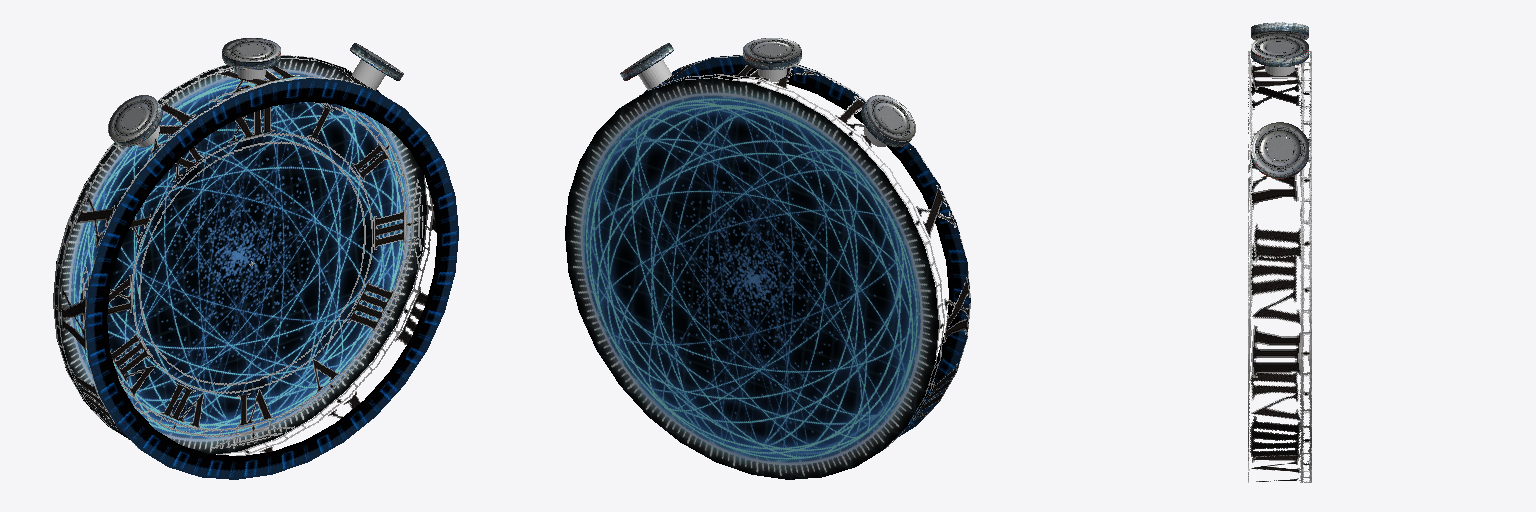
The picture shows the model from 3 angles: view 1: azimuth 30°, elevation 25°; view 2: azimuth 150°, elevation 25°; view 3: azimuth 270°, elevation 25°; orthographic projection.
Parts seen in each view (by area): view 1: clock_face_Cylinder, knob.001_Cylinder.006, knob_Cylinder.004, knob.002_Cylinder.007; view 2: clock_face_Cylinder, knob.001_Cylinder.006, knob_Cylinder.004, knob.002_Cylinder.007; view 3: clock_face_Cylinder, knob.002_Cylinder.007, knob_Cylinder.004, knob.001_Cylinder.006.
Boxes of the visible parts, x1=… form: clock_face_Cylinder: x1=53, y1=55, x2=458, y2=479; knob.001_Cylinder.006: x1=108, y1=95, x2=162, y2=146; knob_Cylinder.004: x1=222, y1=38, x2=280, y2=81; knob.002_Cylinder.007: x1=350, y1=43, x2=403, y2=90; clock_face_Cylinder: x1=565, y1=55, x2=970, y2=479; knob.001_Cylinder.006: x1=861, y1=95, x2=915, y2=146; knob_Cylinder.004: x1=743, y1=38, x2=801, y2=82; knob.002_Cylinder.007: x1=620, y1=43, x2=673, y2=89; clock_face_Cylinder: x1=1248, y1=51, x2=1311, y2=482; knob.002_Cylinder.007: x1=1251, y1=122, x2=1308, y2=178; knob_Cylinder.004: x1=1251, y1=35, x2=1308, y2=78; knob.001_Cylinder.006: x1=1251, y1=22, x2=1308, y2=39.
Size of the model in its own units: 5.99 by 6.34 by 0.8957.
7 materials, 5 textured.